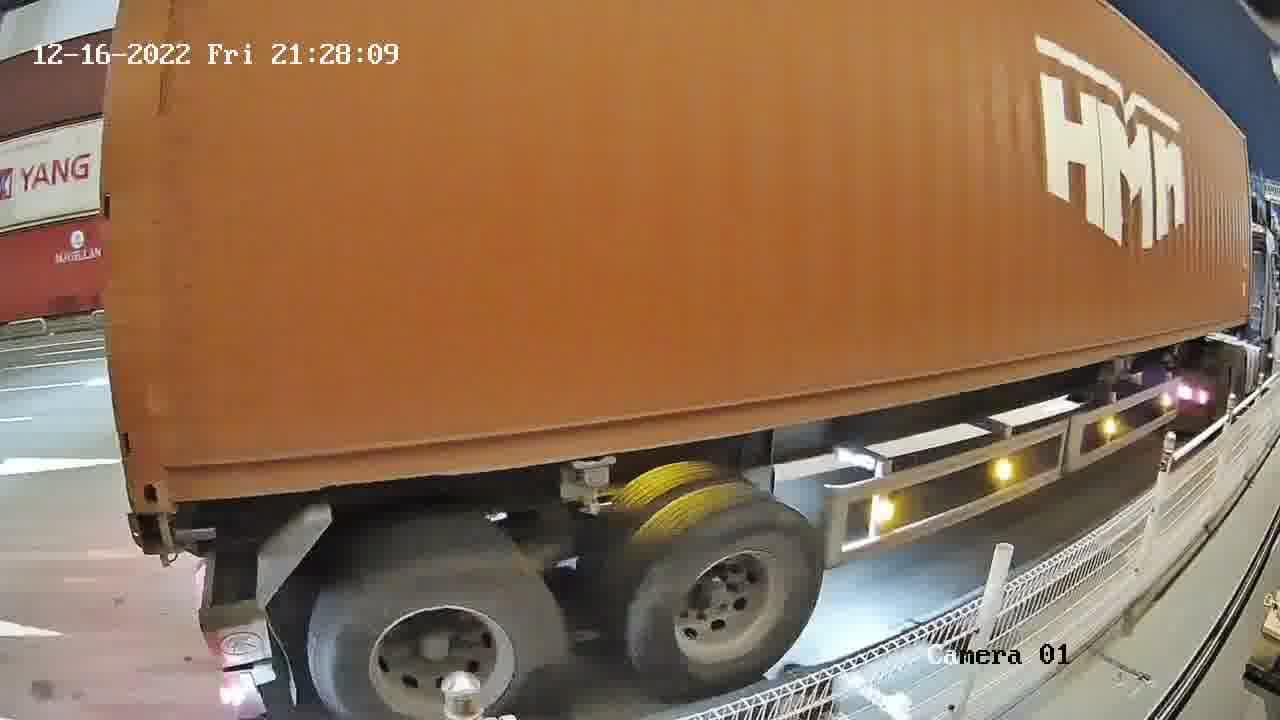Cone: (135, 510, 179, 558)
Hole_L: (121, 432, 215, 513)
Tire: (317, 541, 567, 713), (623, 502, 821, 697)
